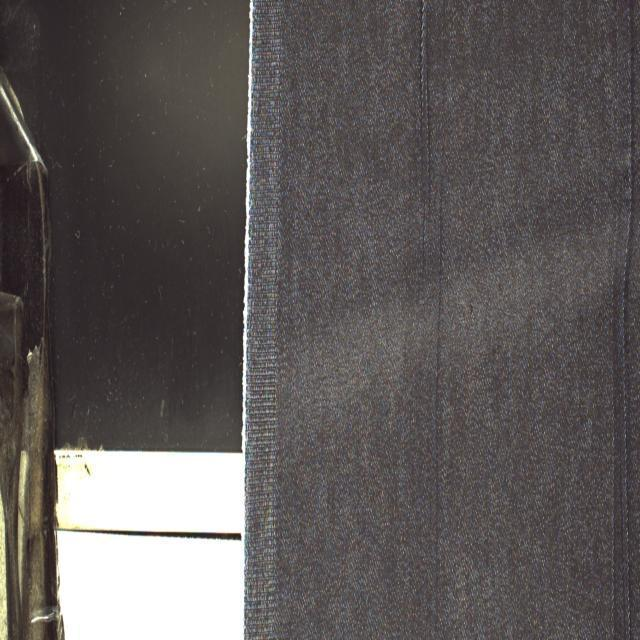broken_yarn: (602, 0, 640, 639), (425, 134, 455, 625), (414, 0, 438, 327)
